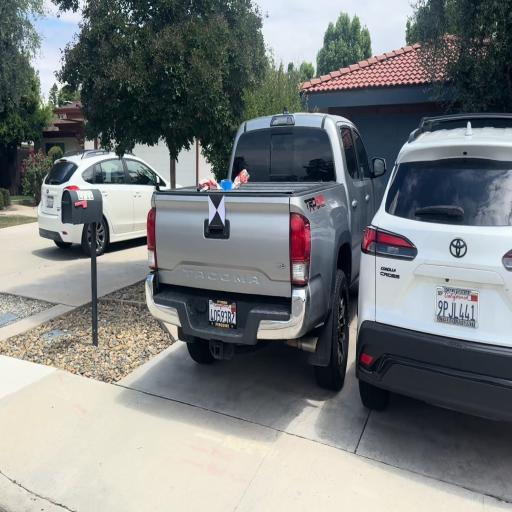target: (208, 195, 224, 226)
